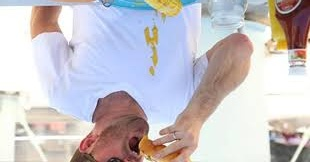mustard: (149, 24, 163, 75), (143, 26, 159, 50)
